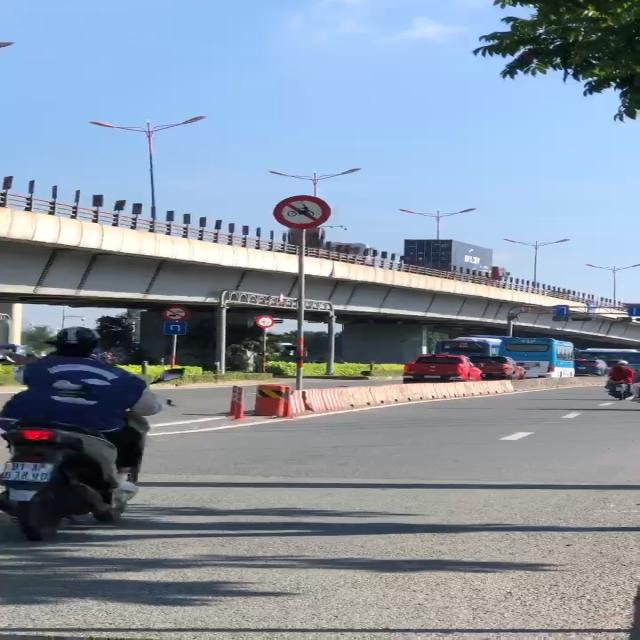Bien bao cam xe may: (274, 193, 333, 233)
Bien bao cam xe oto khach va xe oto tai: (160, 302, 188, 320)
